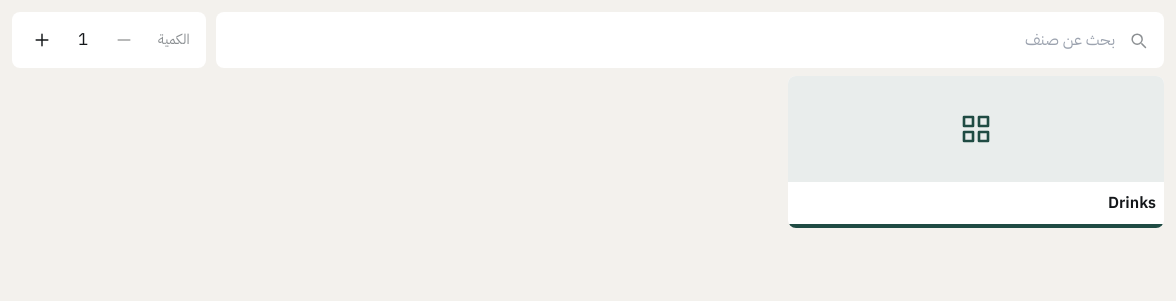
Test: what a tile says about stock › says how many are left when there are few
Click the button "Drinks" at (976, 152), box [788,76,1164,228]
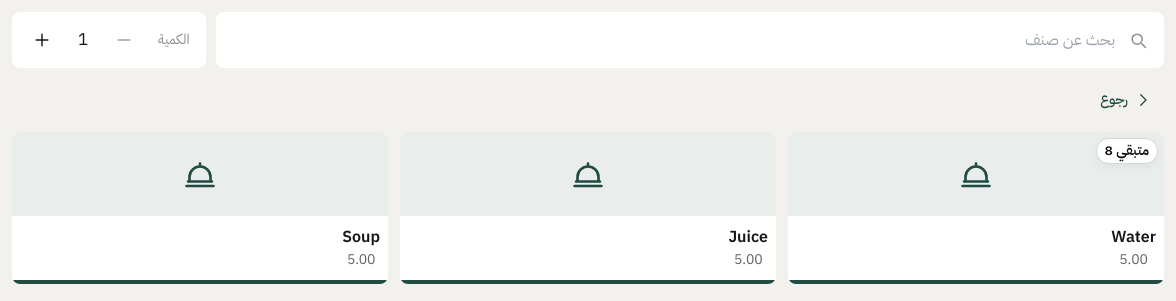
Result: the button "متبقي 8 Water 5.00" is enabled at [788,132,1164,284]
